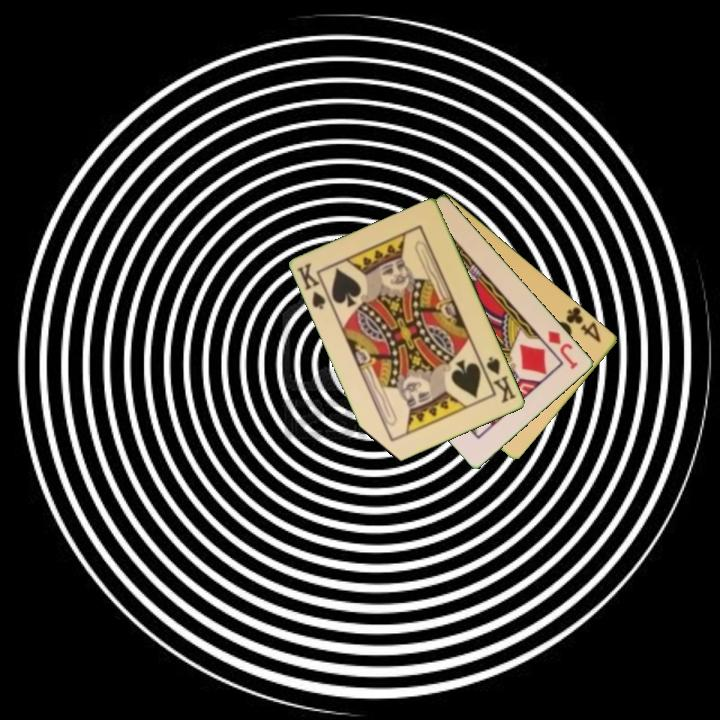4c: (563, 304, 604, 346)
Jd: (545, 327, 582, 372)
Ks: (478, 353, 520, 406), (294, 259, 335, 312)
